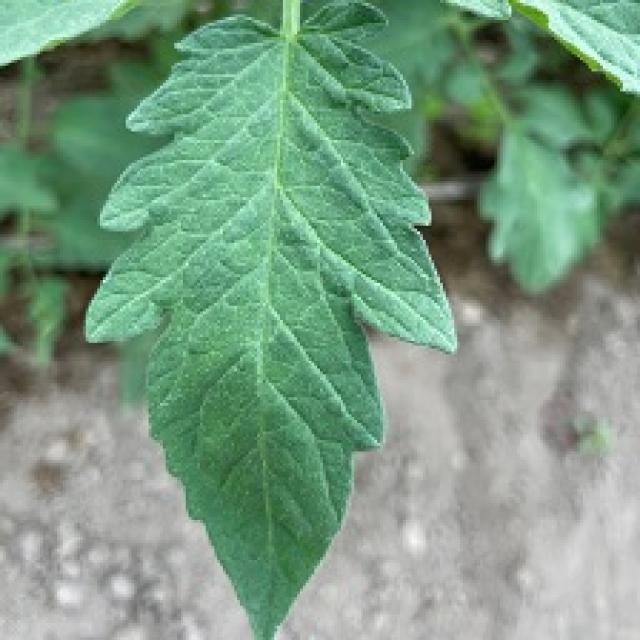Healthy: (46, 0, 493, 640)
